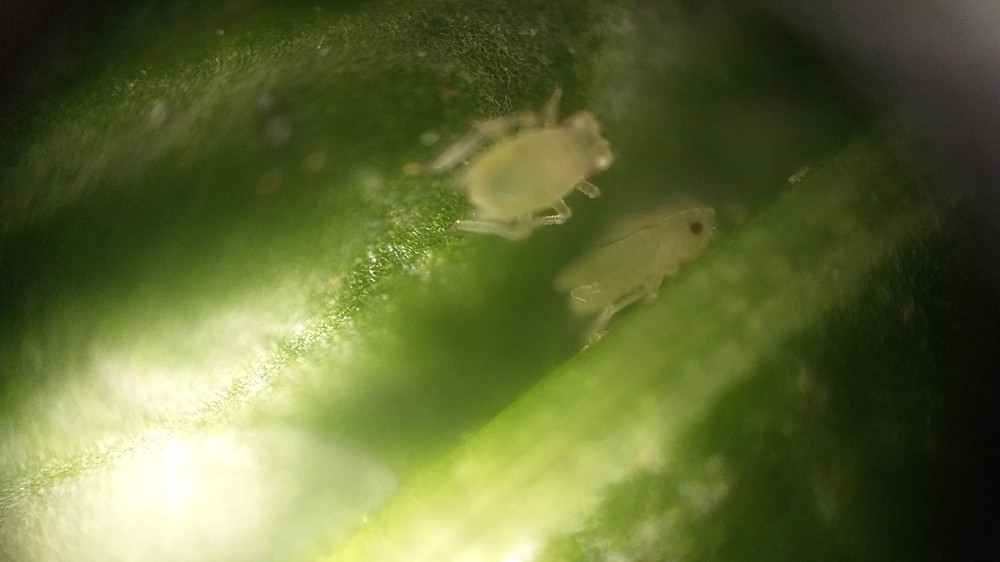Pulgon: (419, 72, 626, 231), (539, 193, 757, 333)
